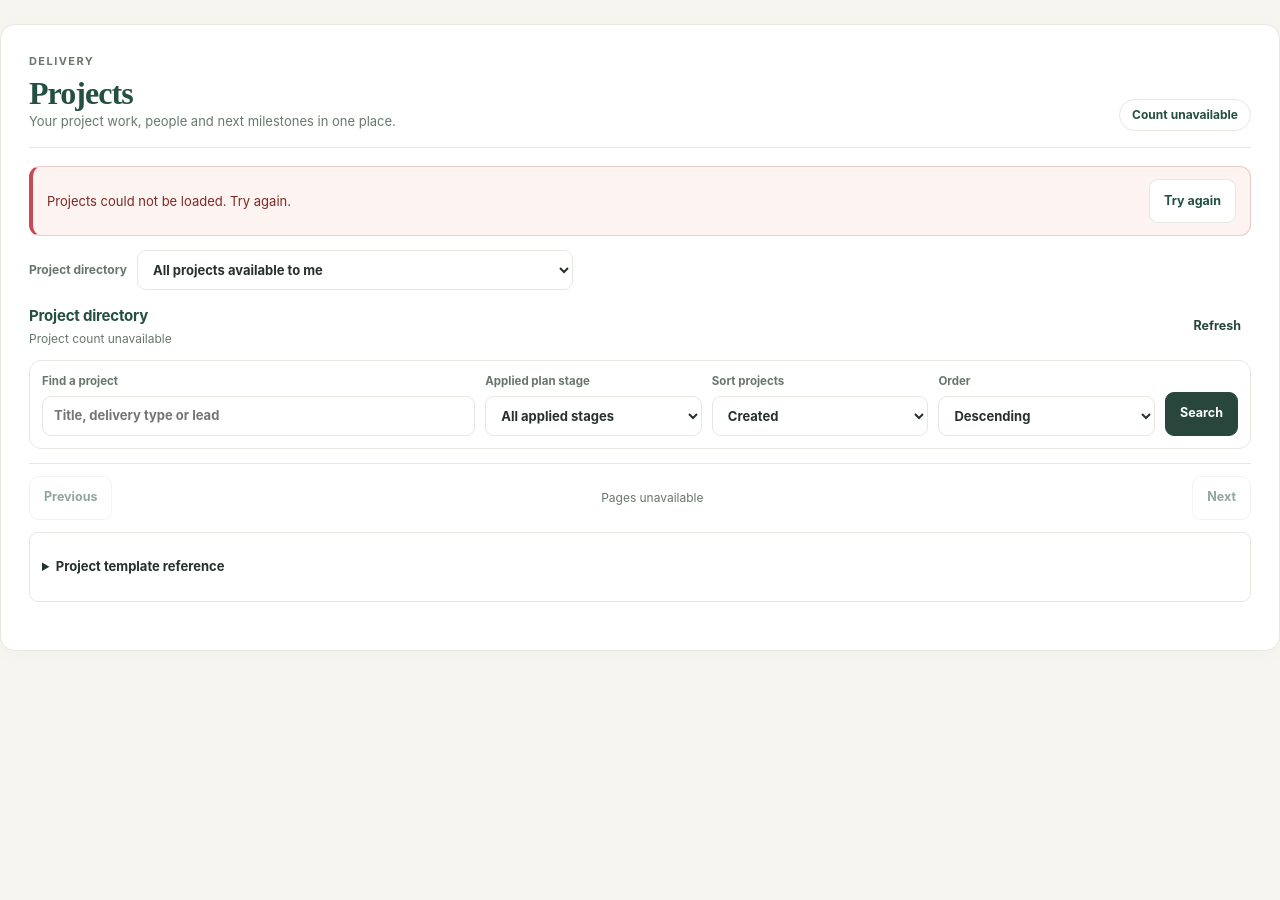
Test case: reports an unavailable directory count on read failure and restores it after recovery
This screenshot has width=1280, height=900.
Expected: the text "Count unavailable" is shown, x1=1119 y1=99 x2=1251 y2=131
Expected: the text "Project count unavailable" is shown, x1=29 y1=330 x2=172 y2=348
Step 1. Click the button "Try again" → coordinates (1192, 201), box x1=1149 y1=179 x2=1236 y2=223
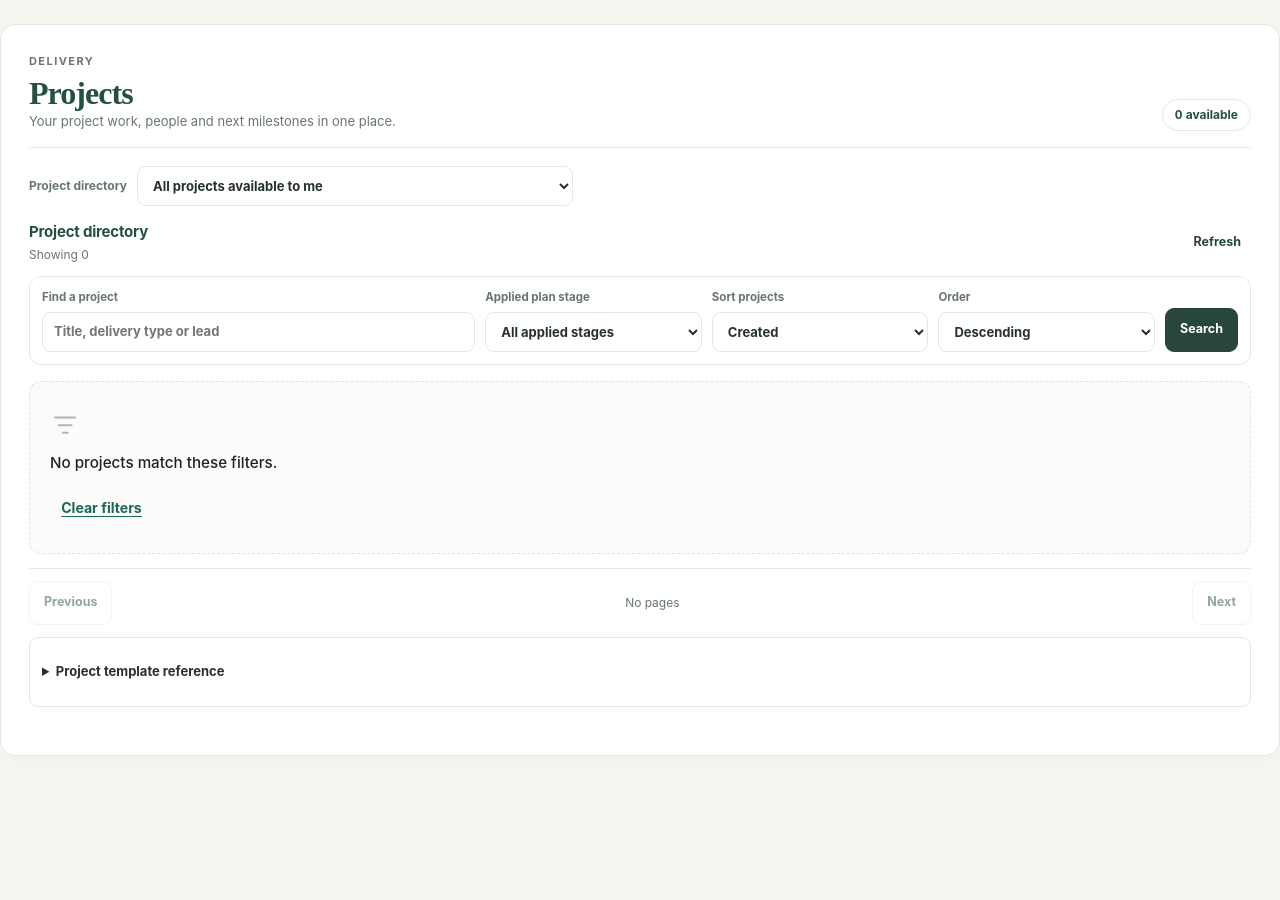
Expected: the text "0 available" is shown, x1=1162 y1=99 x2=1251 y2=131
Expected: the text "No projects match these filters." is shown, x1=50 y1=452 x2=277 y2=475
